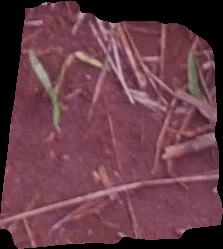soil: (2, 3, 221, 247)
